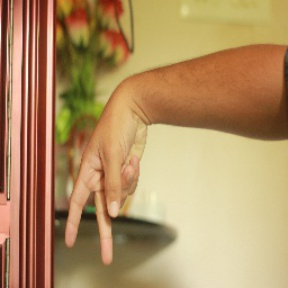Y: (61, 94, 149, 267)
